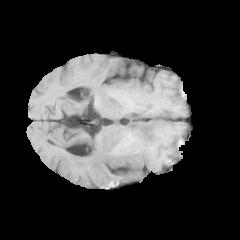glioma: (54, 119, 179, 188)
